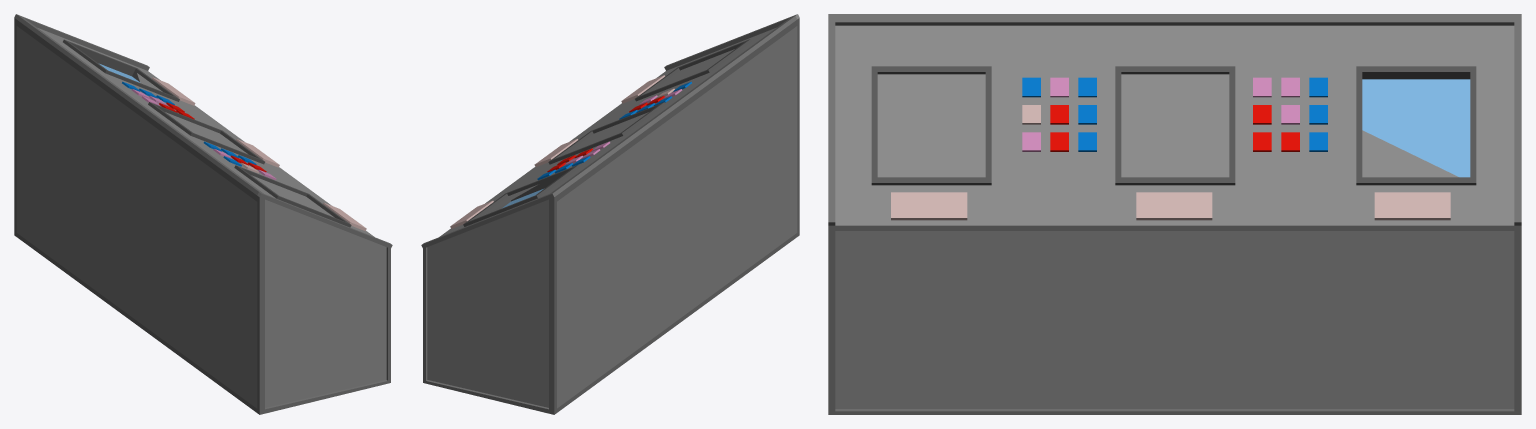
File: SciFiComputerPod1.fbx
The picture shows the model from 3 angles, left to right: view 1: azimuth 30°, elevation 25°; view 2: azimuth 150°, elevation 25°; view 3: azimuth 270°, elevation 25°; orthographic projection. The views are drawn at different scales.
Parts seen in each view (by area): view 1: ComputerPod1; view 2: ComputerPod1; view 3: ComputerPod1.
Part boxes in pixels (<box>): ComputerPod1: <box>14,14,392,414</box>; ComputerPod1: <box>421,14,799,414</box>; ComputerPod1: <box>828,14,1521,414</box>.
Bounding box in the file's own units: 51.6 × 81.78 × 165.
